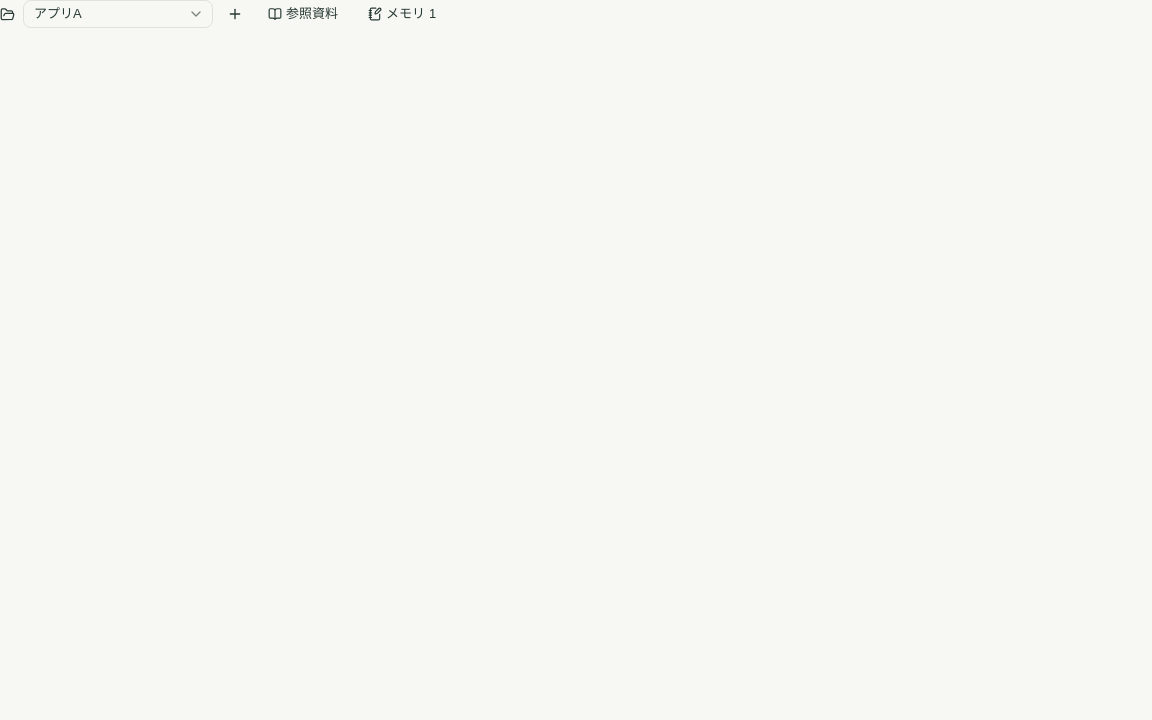
Scenario: keeps the confirmation and project visible after a failure
This screenshot has width=1152, height=720.
Click the button with aria-label "プロジェクトメモリ" at (402, 14), box [357,0,447,28]
(page scrolled)
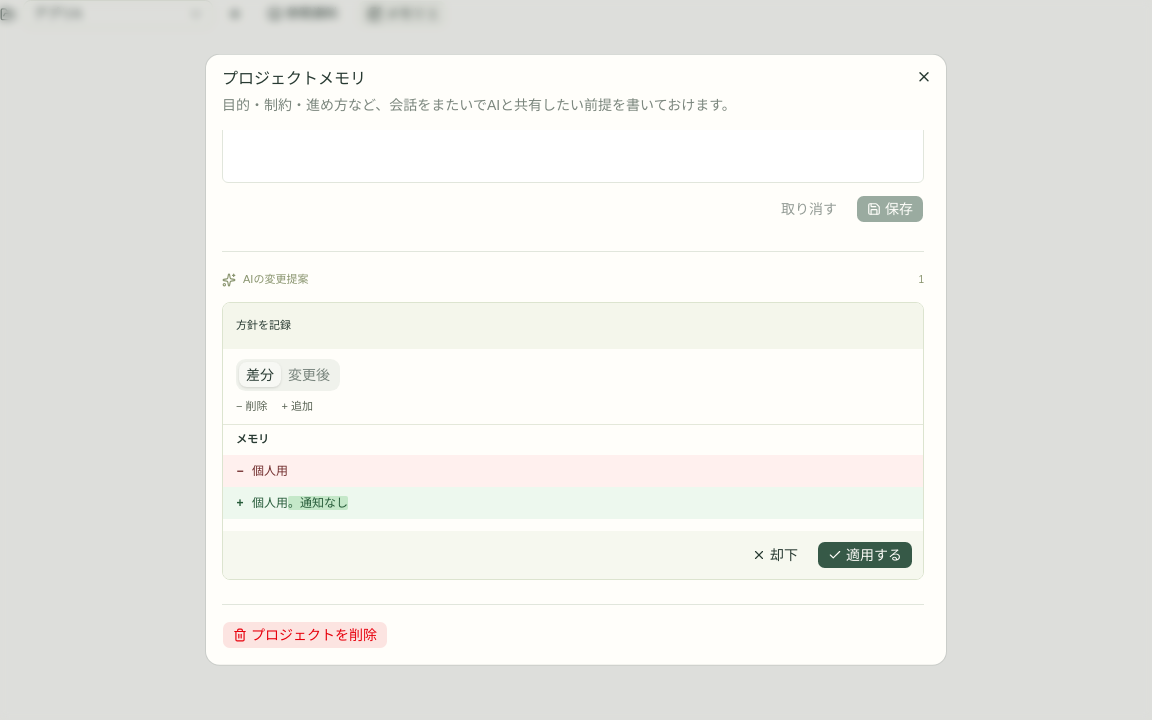
Click the button "プロジェクトを削除" at (305, 635), box [222,621,388,649]
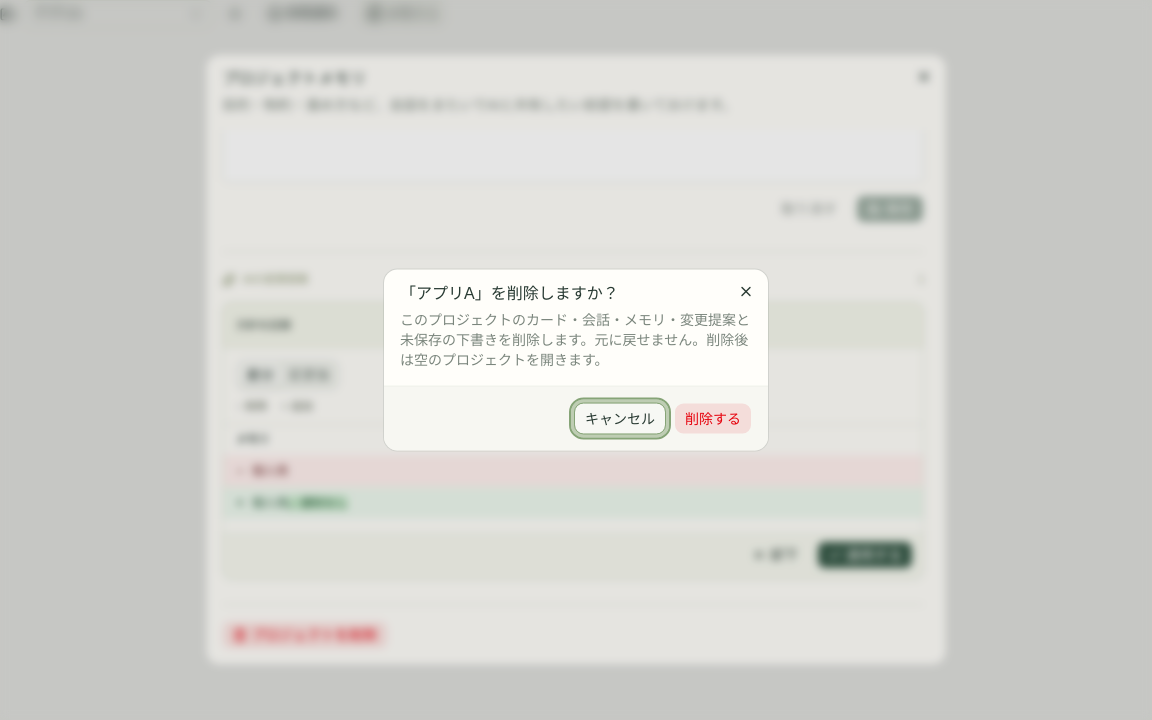
Click the button "削除する" at (713, 418), box [674,402,752,434]
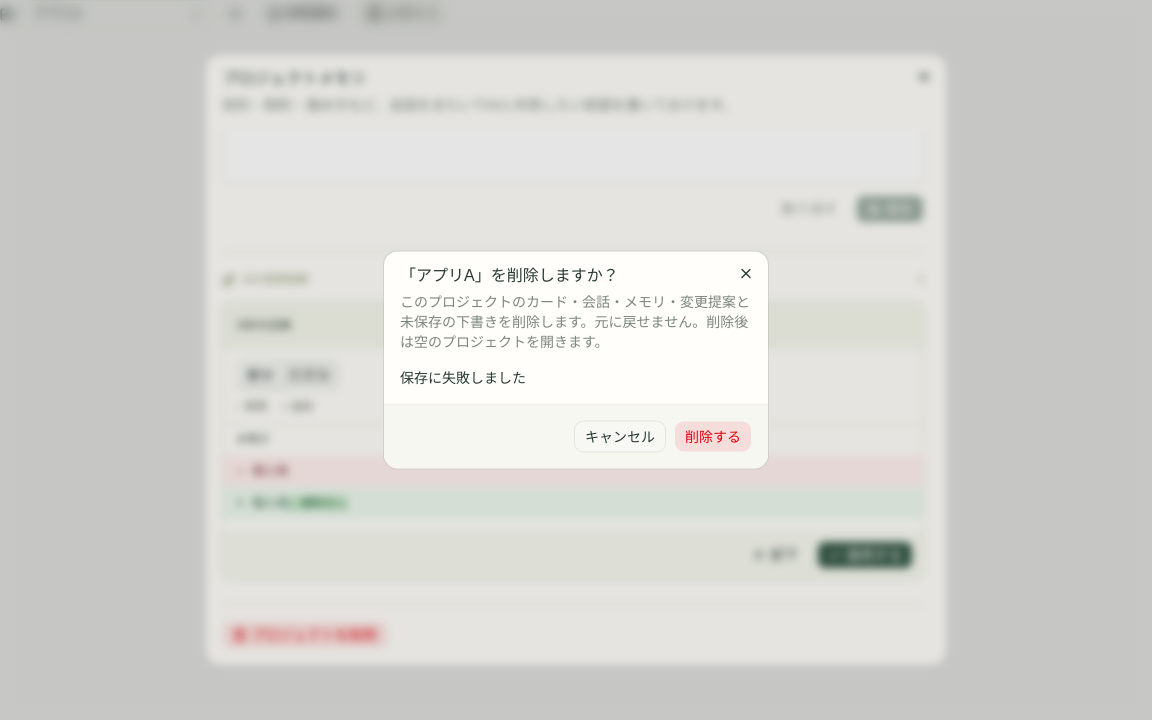
Expected: the button "削除する" is enabled, [674,420,752,452]
Expected: the message reads "保存に失敗しました", [400,370,526,386]
